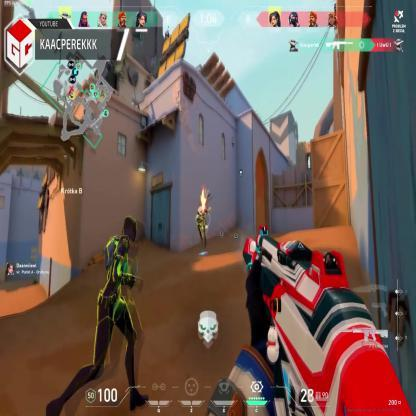enemy: (46, 204, 150, 409)
enemy_head: (122, 212, 137, 244)
